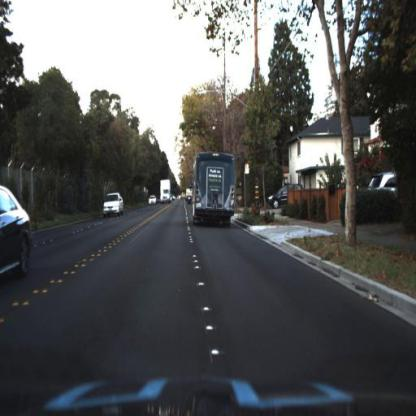car: (1, 186, 34, 287), (268, 180, 303, 213), (101, 192, 125, 219)
truck: (189, 153, 237, 234)
